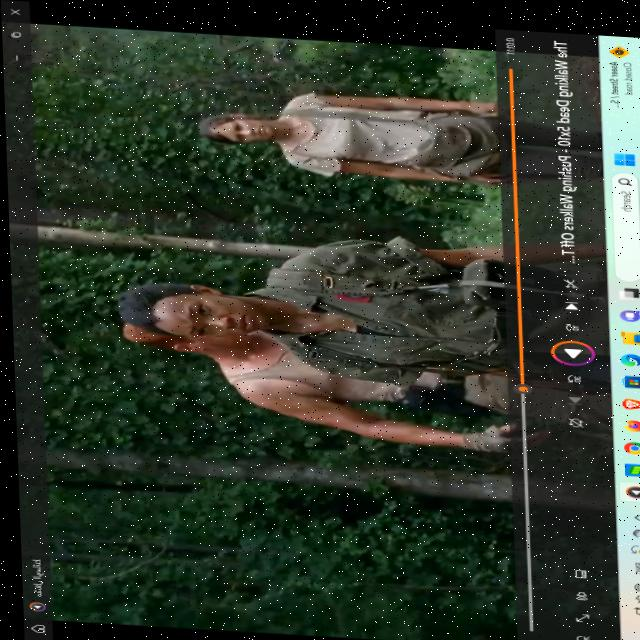human: (117, 278, 276, 339), (108, 328, 256, 354), (199, 101, 278, 145)
